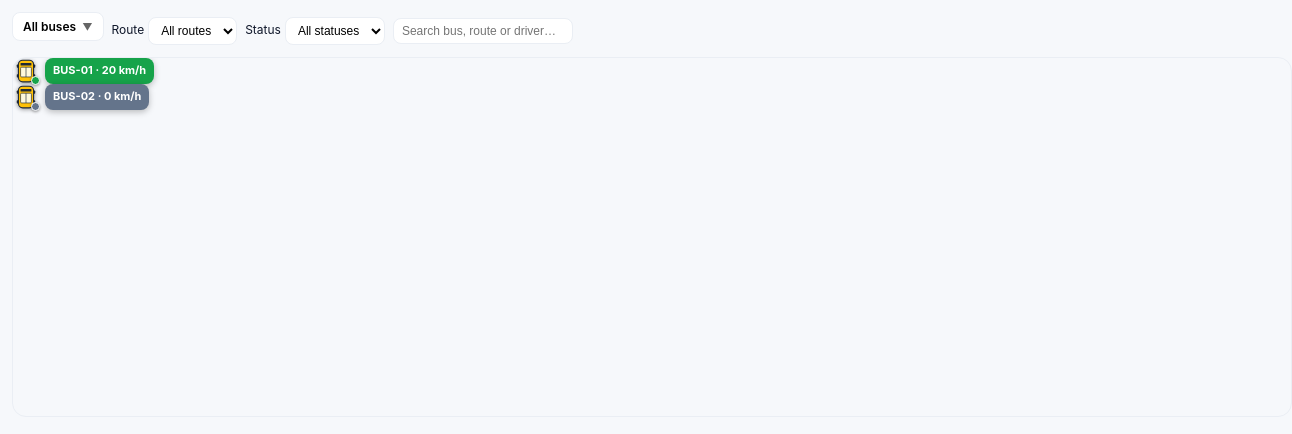
FleetLiveMap route geometry › filters buses by status
The image size is (1292, 434).
Select "delayed" in the dropdown labelled "Status" at {"x": 335, "y": 30}, box x1=285 y1=16 x2=385 y2=44
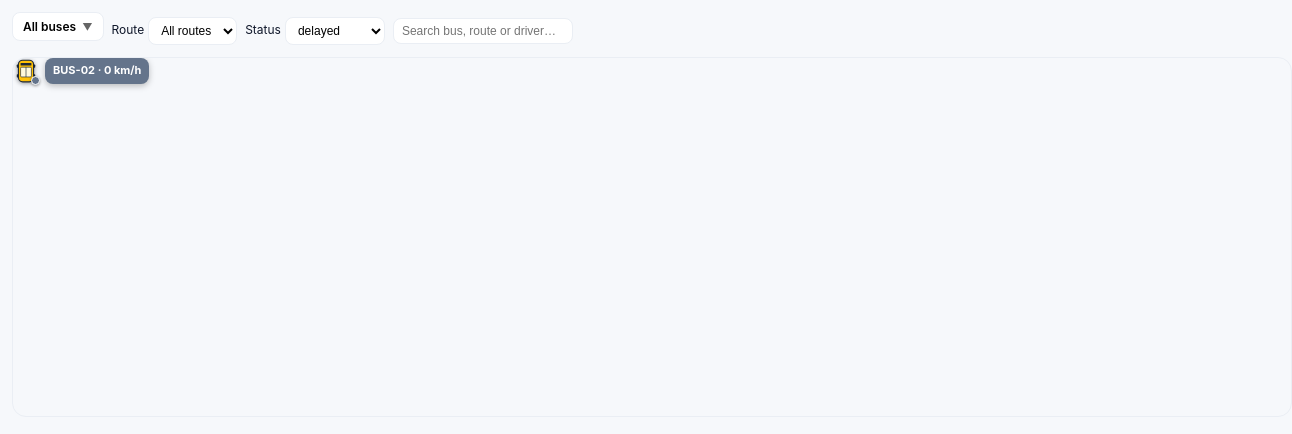
Expected: the text "BUS-02 · 0 km/h" is shown, x1=45 y1=58 x2=150 y2=84
Now the text "BUS-01" is gone
